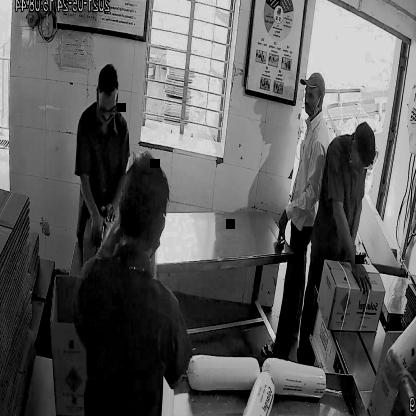no_goggles: (303, 87, 326, 106)
